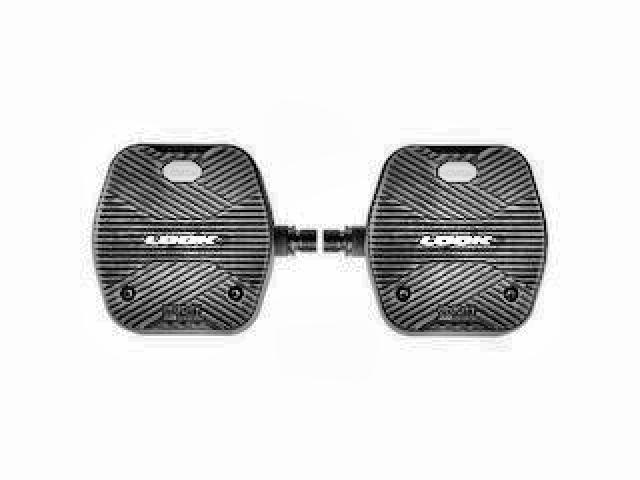pedal: (317, 141, 555, 343), (89, 141, 318, 341)
